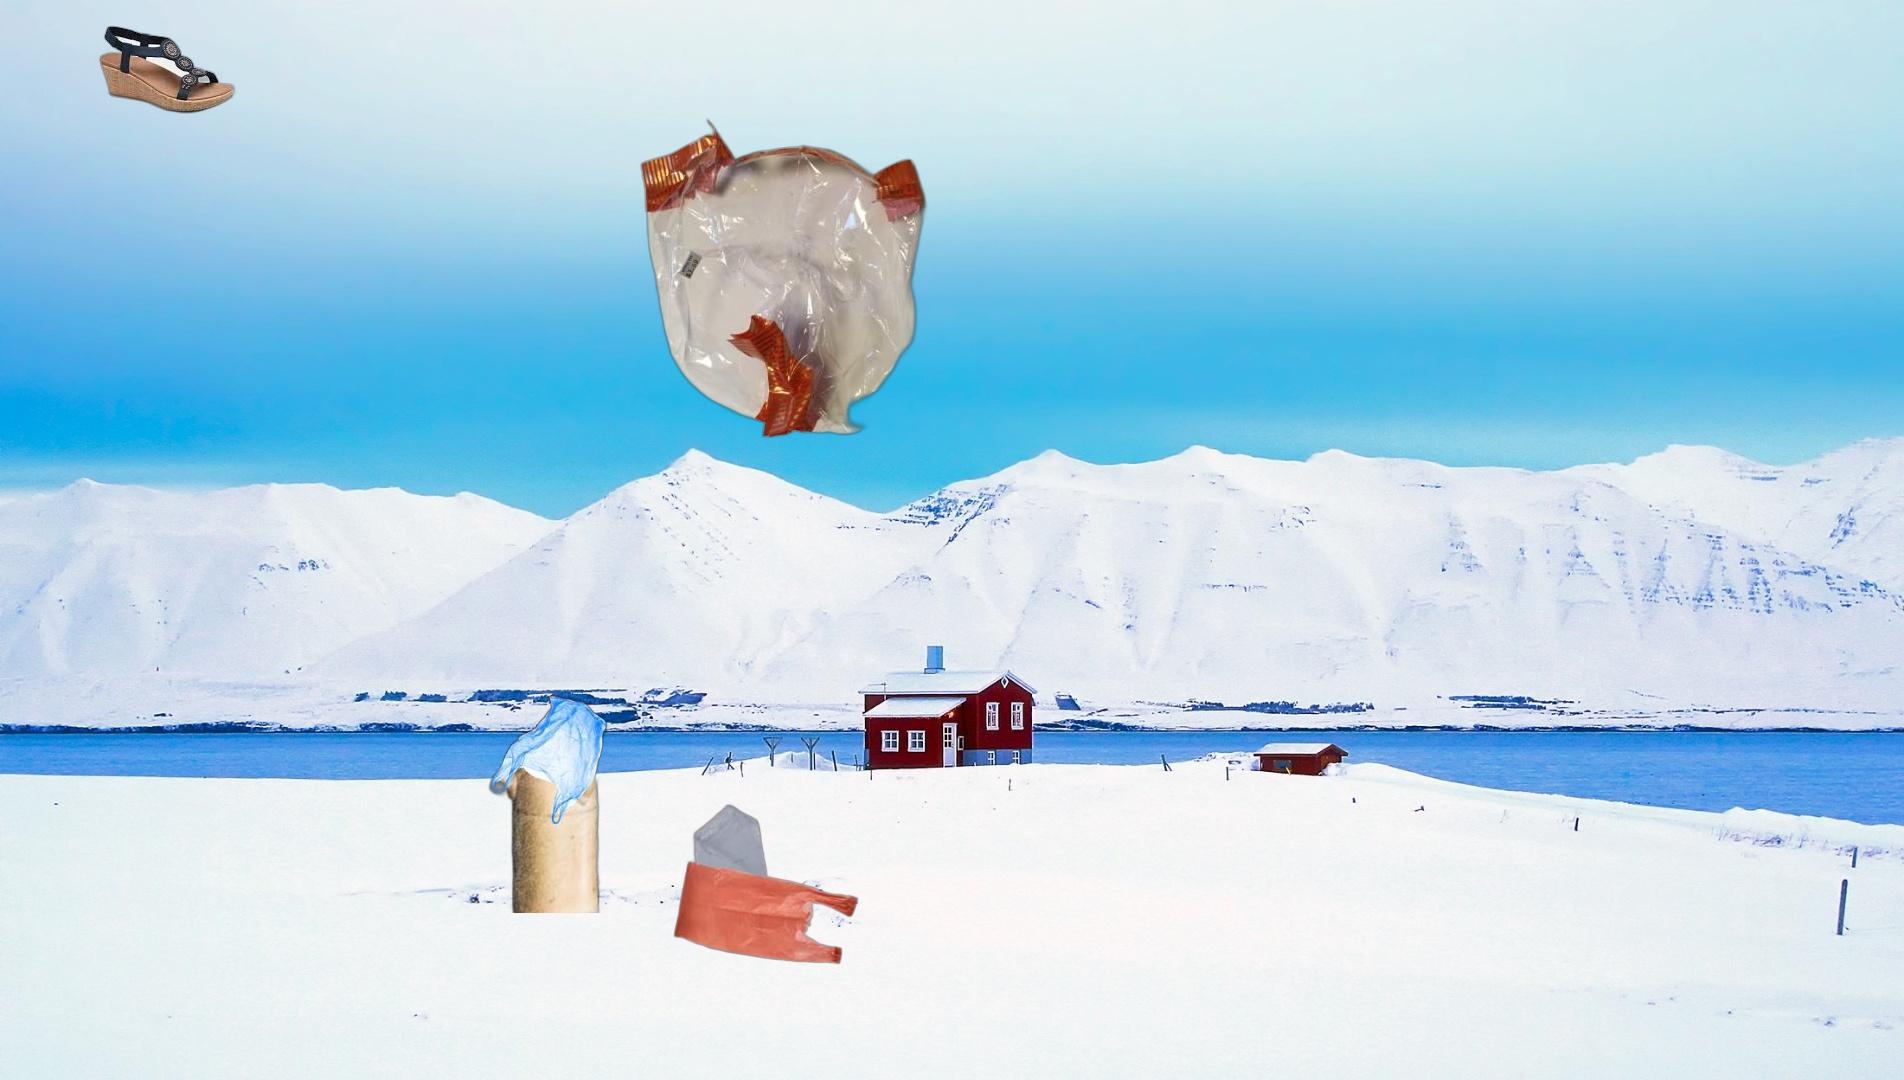paper: (637, 116, 930, 439)
plastic-bag: (450, 692, 609, 913), (671, 802, 859, 968)
shoes: (97, 24, 239, 116)
